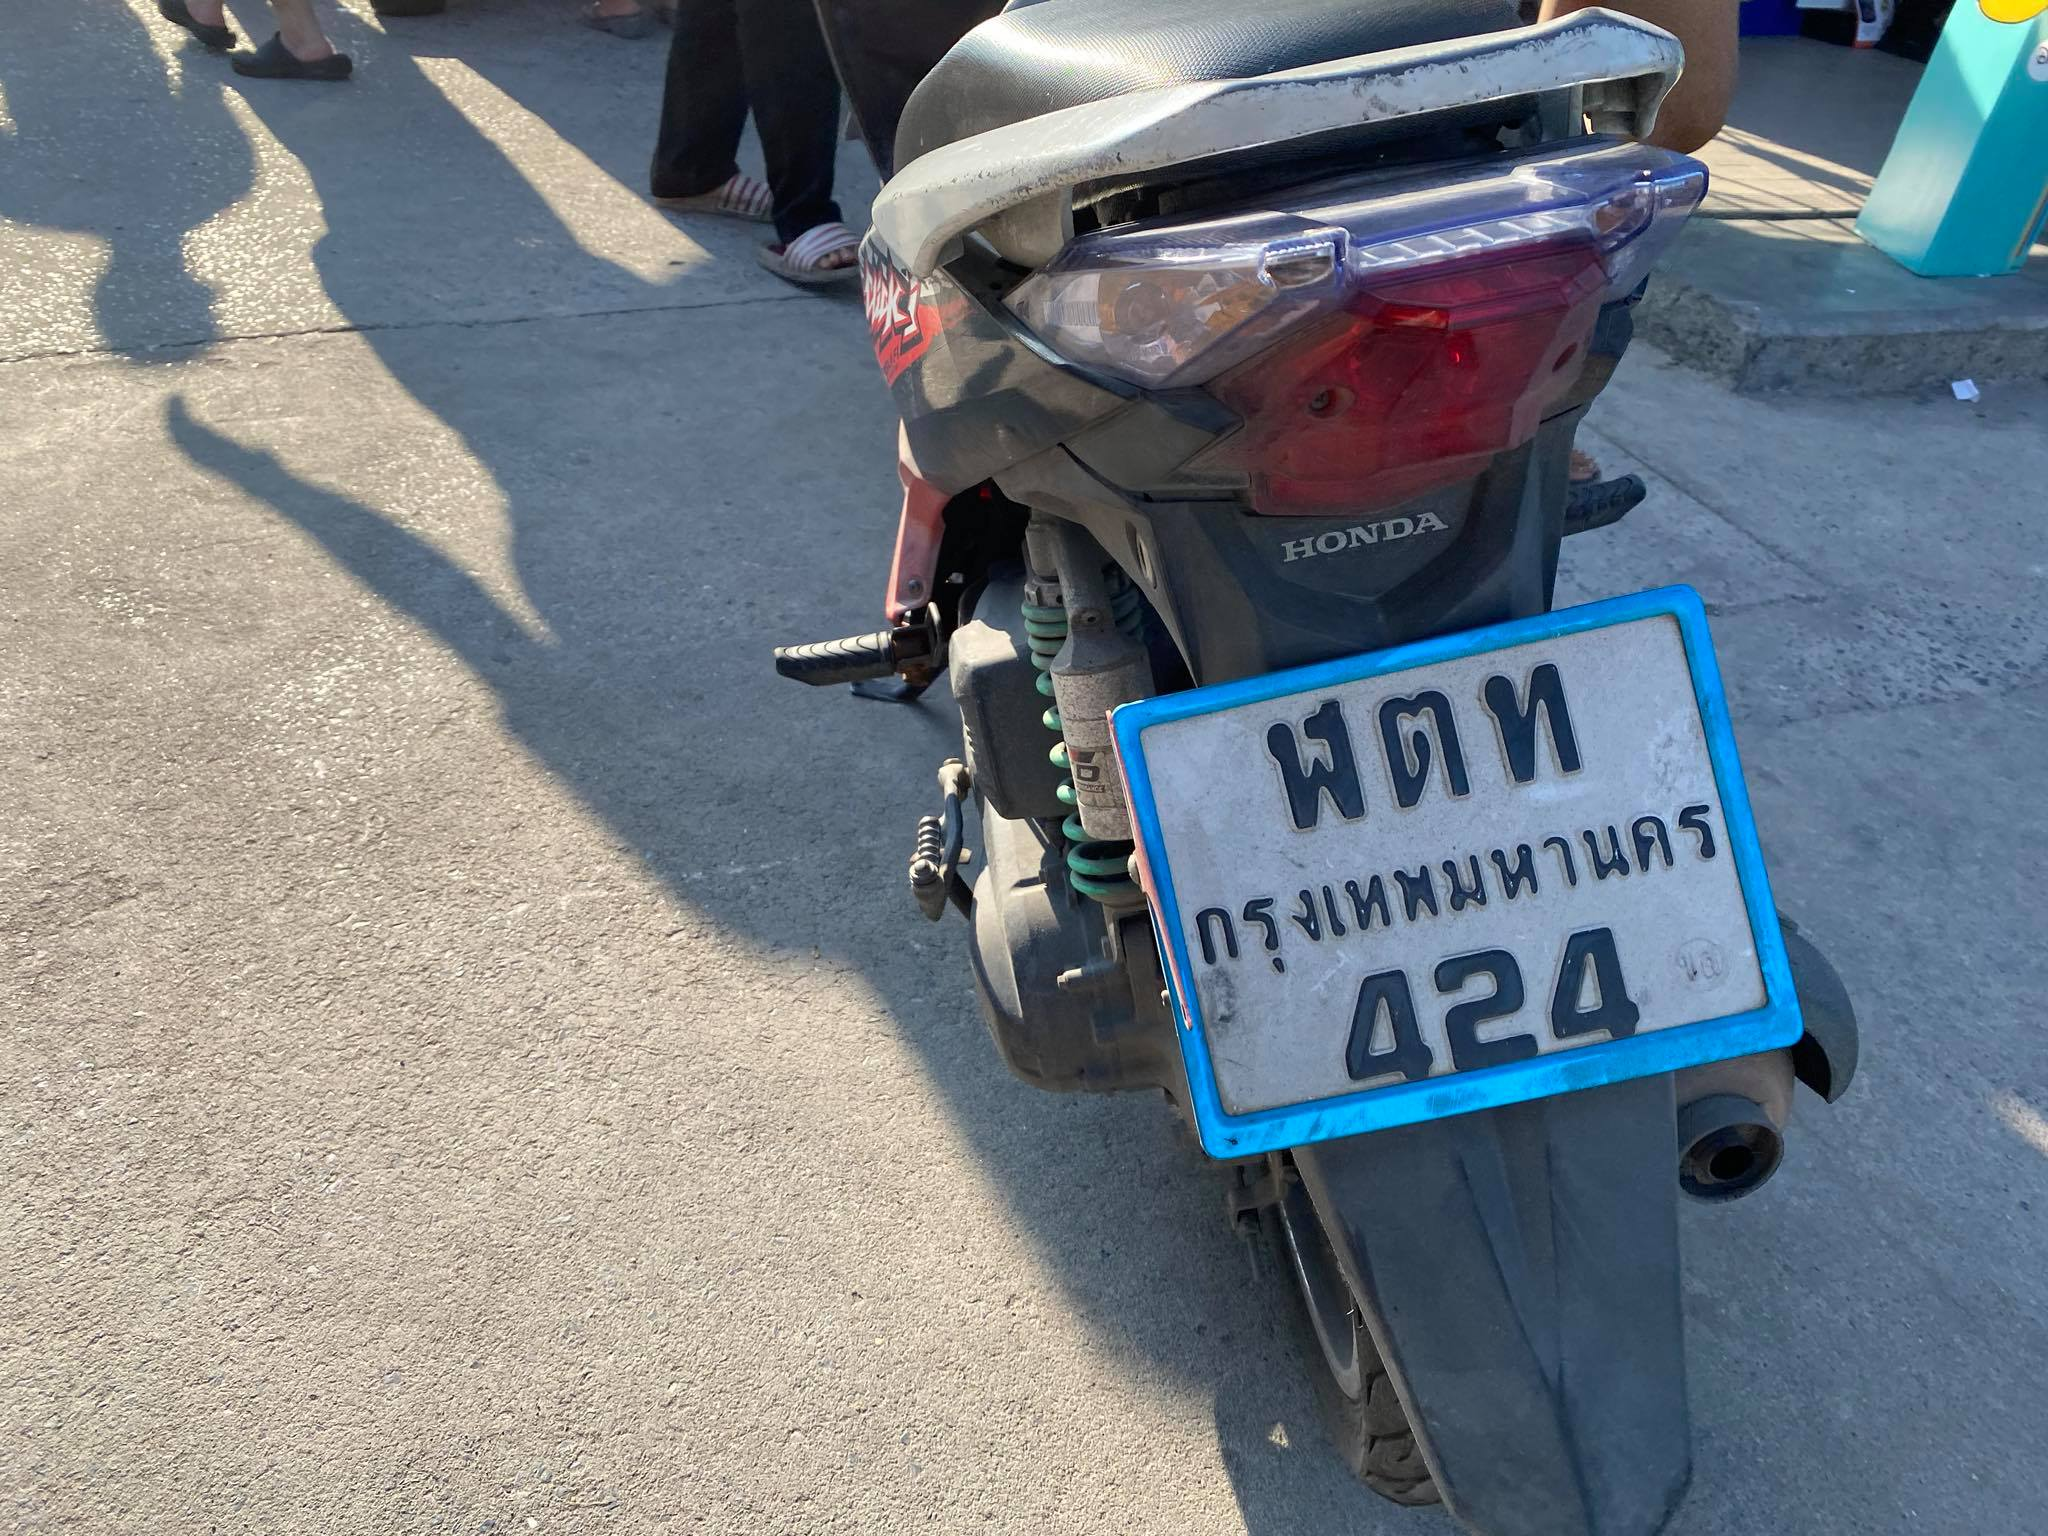line1: (1255, 649, 1584, 833)
line2: (1185, 807, 1734, 971)
line3: (1332, 928, 1642, 1091)
